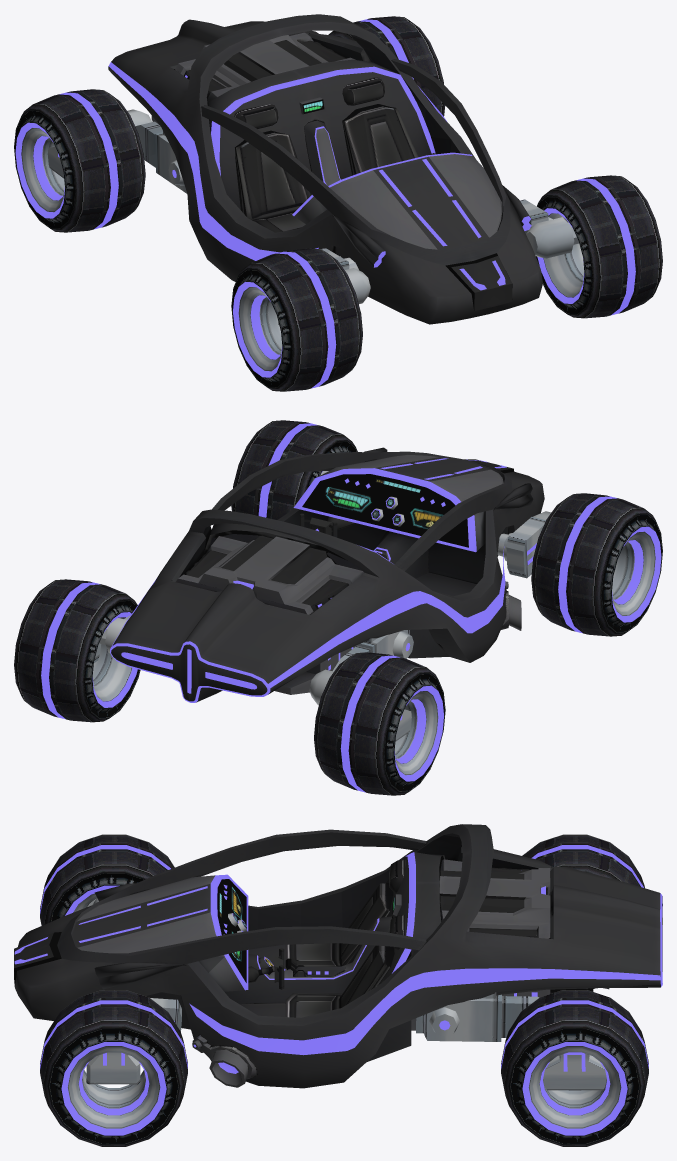
Rendered from runner.glb.
The picture shows the model from 3 angles, top to bottom: view 1: azimuth 30°, elevation 25°; view 2: azimuth 150°, elevation 25°; view 3: azimuth 270°, elevation 25°; orthographic projection. The views are drawn at different scales.
Visible parts, largest first — view 1: Agile, FRWheel, BRWheel, FLWheel, BLWheel, BRSus, FLSus, FRSus; view 2: Agile, FRWheel, BRWheel, BLWheel, FLWheel, BRSus, FRSus; view 3: Agile, FLWheel, BLWheel, FRWheel, BLSus, BRWheel, FLSus.
Boxes of the visible parts, box(x1,y1,x2,y2) form: Agile: box(108, 14, 542, 324); FRWheel: box(231, 248, 362, 391); BRWheel: box(14, 89, 145, 232); FLWheel: box(536, 175, 662, 318); BLWheel: box(328, 16, 445, 116); BRSus: box(47, 109, 187, 193); FLSus: box(520, 199, 578, 258); FRSus: box(278, 248, 370, 324); Agile: box(110, 447, 544, 702); FRWheel: box(531, 493, 662, 636); BRWheel: box(314, 652, 445, 795); BLWheel: box(14, 579, 140, 722); FLWheel: box(231, 420, 357, 519); BRSus: box(309, 630, 413, 741); FRSus: box(497, 511, 615, 578); Agile: box(14, 824, 662, 1088); FLWheel: box(40, 990, 187, 1146); BLWheel: box(501, 990, 648, 1146); FRWheel: box(40, 834, 174, 925); BLSus: box(416, 992, 606, 1090); BRWheel: box(522, 834, 644, 988); FLSus: box(86, 998, 181, 1084).
Bounding box in the file's own units: 0.3612 × 0.1764 × 0.5051.
9 materials, 7 textured.
